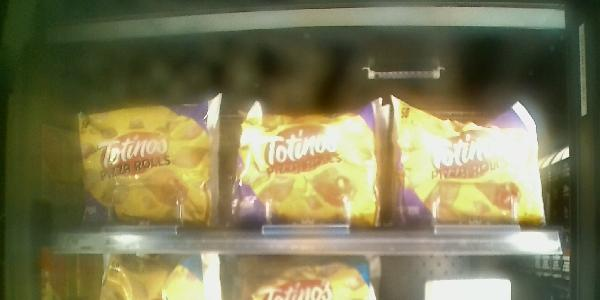icecream: (389, 86, 557, 228), (231, 95, 388, 232), (73, 105, 220, 230)
